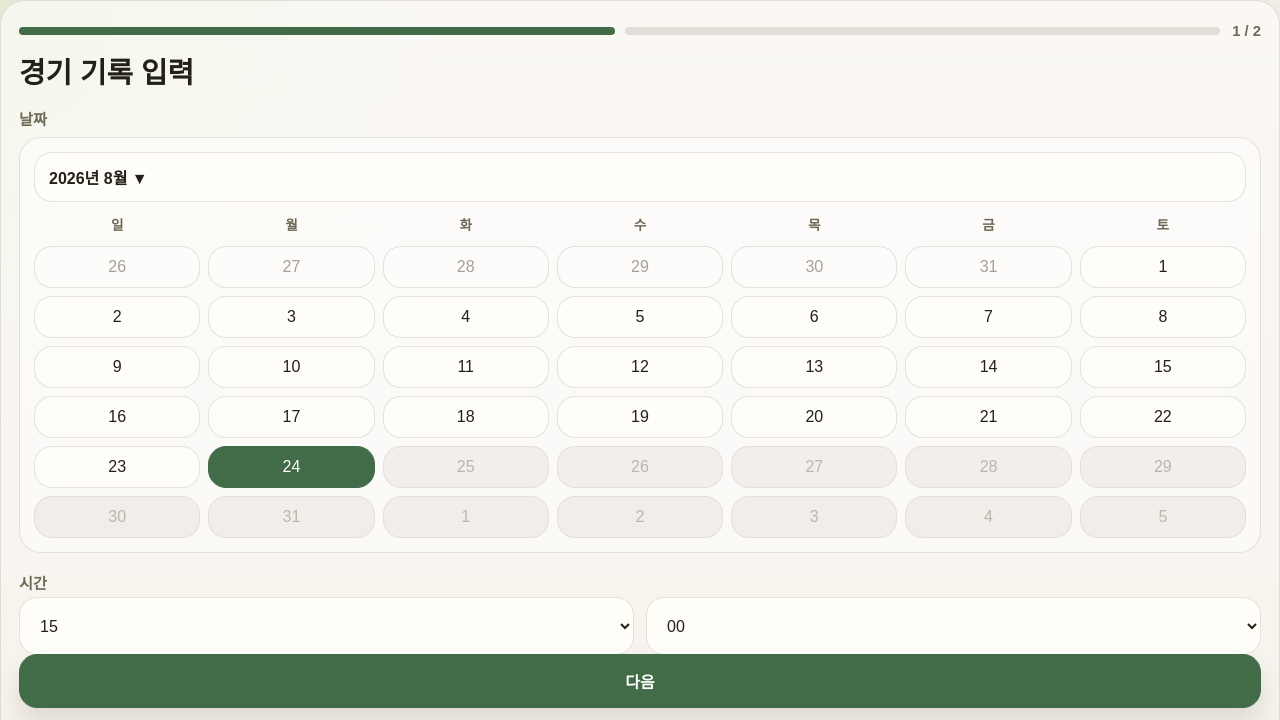
Test case: EntryFlowClient › 각 입력값은 최대 10까지만 입력된다
This screenshot has width=1280, height=720.
Click the button "다음" at (640, 681), box [19, 654, 1261, 708]
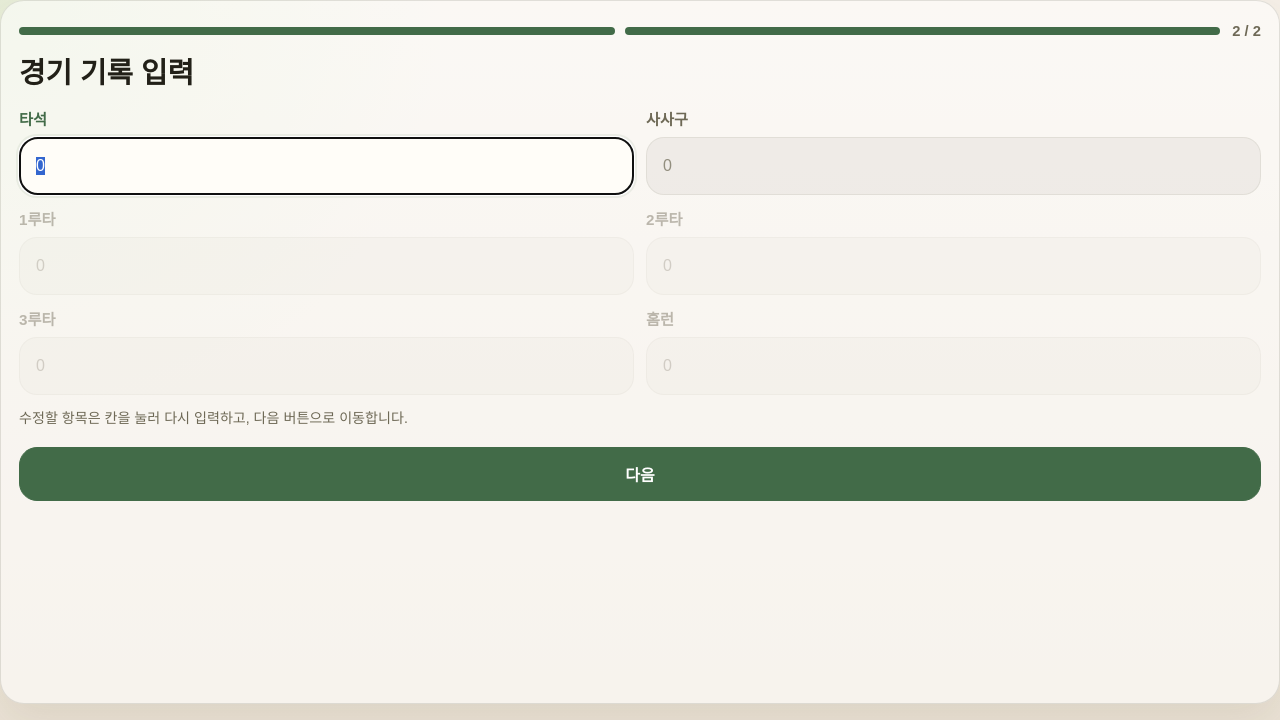
Replace the text in the field labelled "타석" with "12" at (326, 166), box [19, 137, 634, 195]
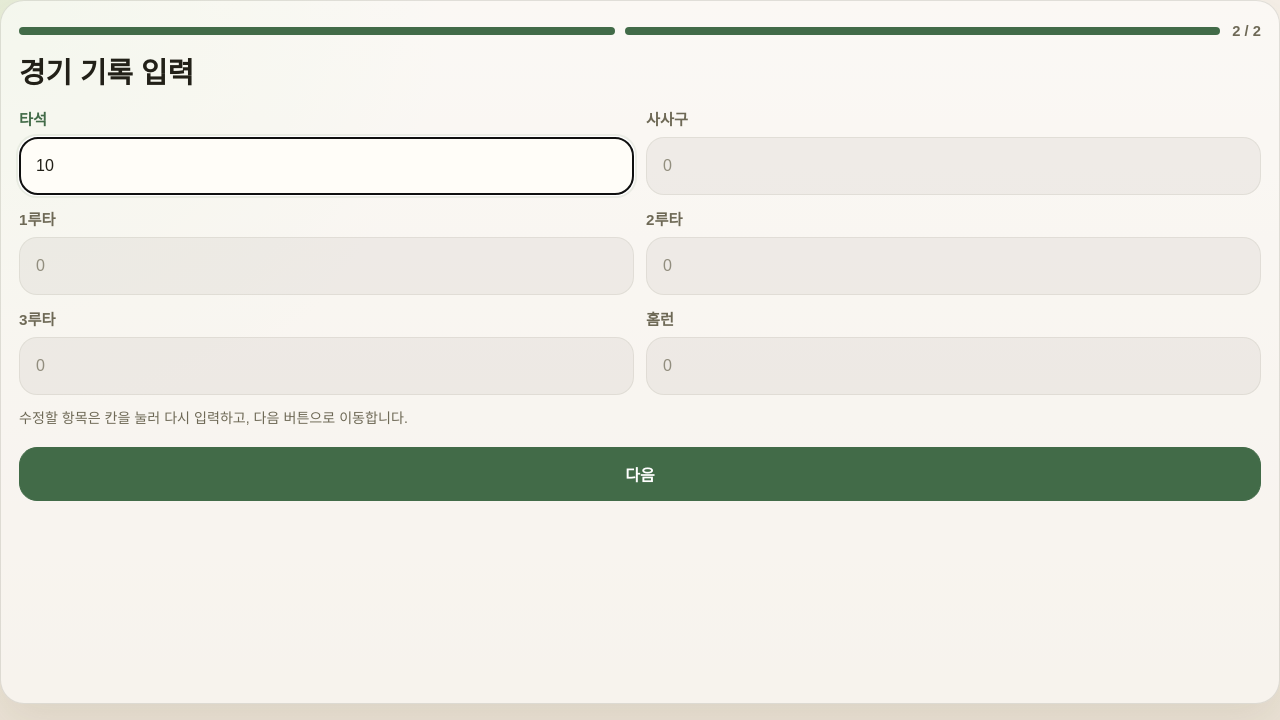
expect the field labelled "타석" holds "10": met, box [19, 137, 634, 195]
